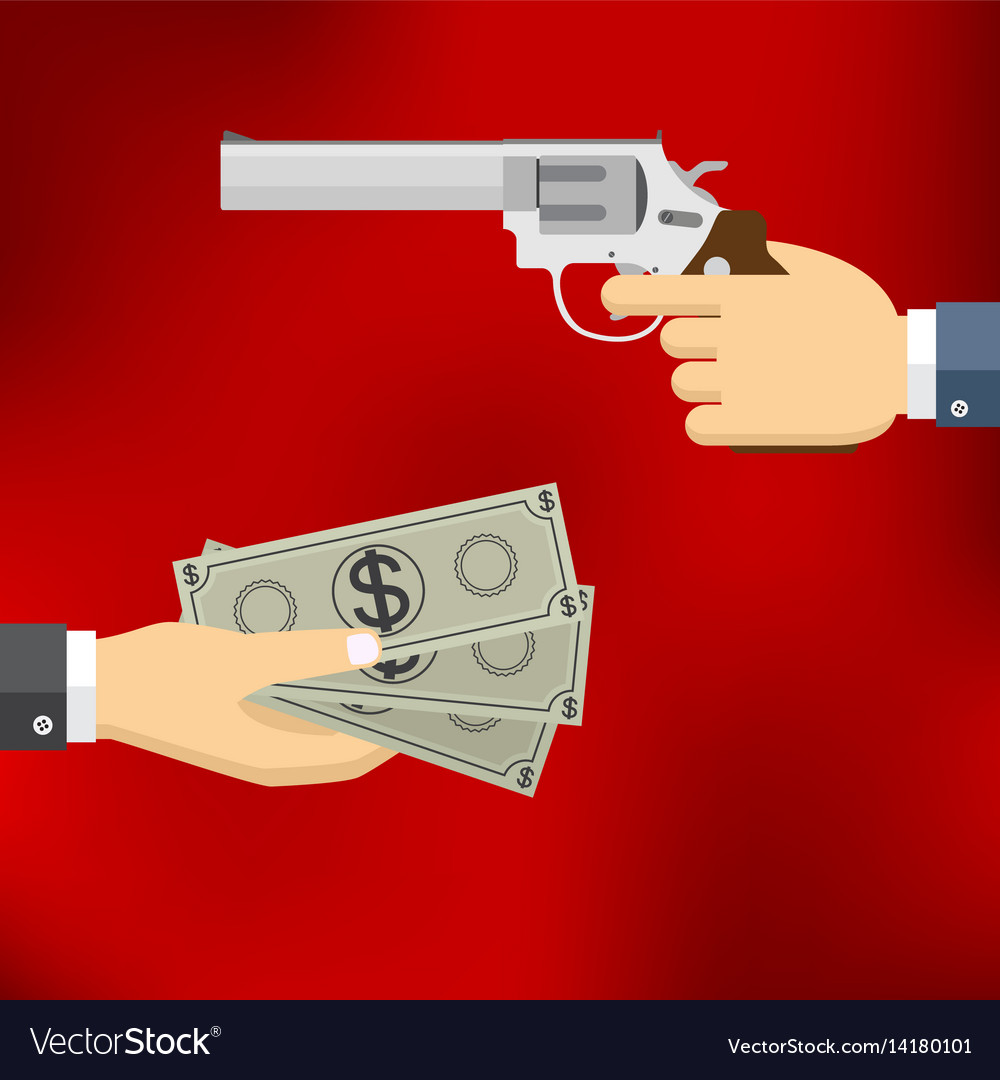pistol: (175, 100, 904, 469)
